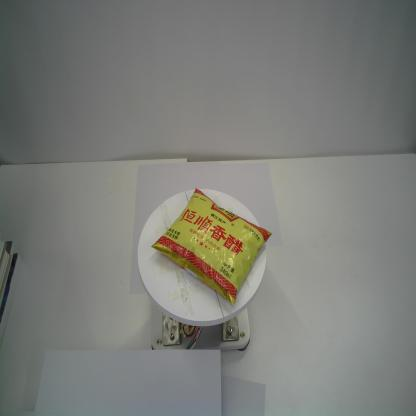Seasoner: (151, 188, 273, 306)
